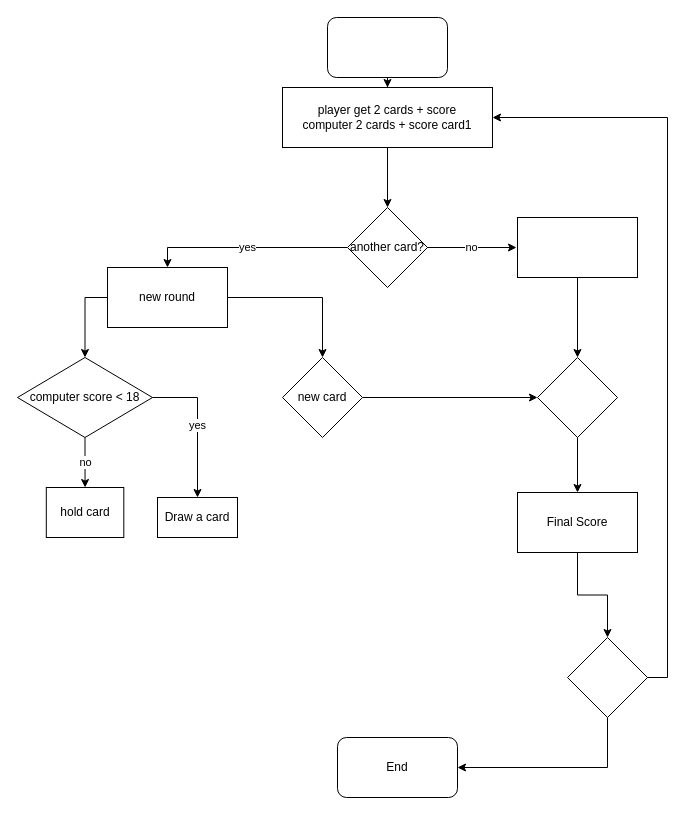
Some shapes in this 693 by 815 pixel diagram are drawn without their labels. Here are the shapes that lost their labels. From the top down, the box of each, then its label:
(326, 16, 448, 78): START
(516, 216, 638, 278): calculate score
(536, 356, 618, 438): calculate
(566, 636, 648, 718): go on?
